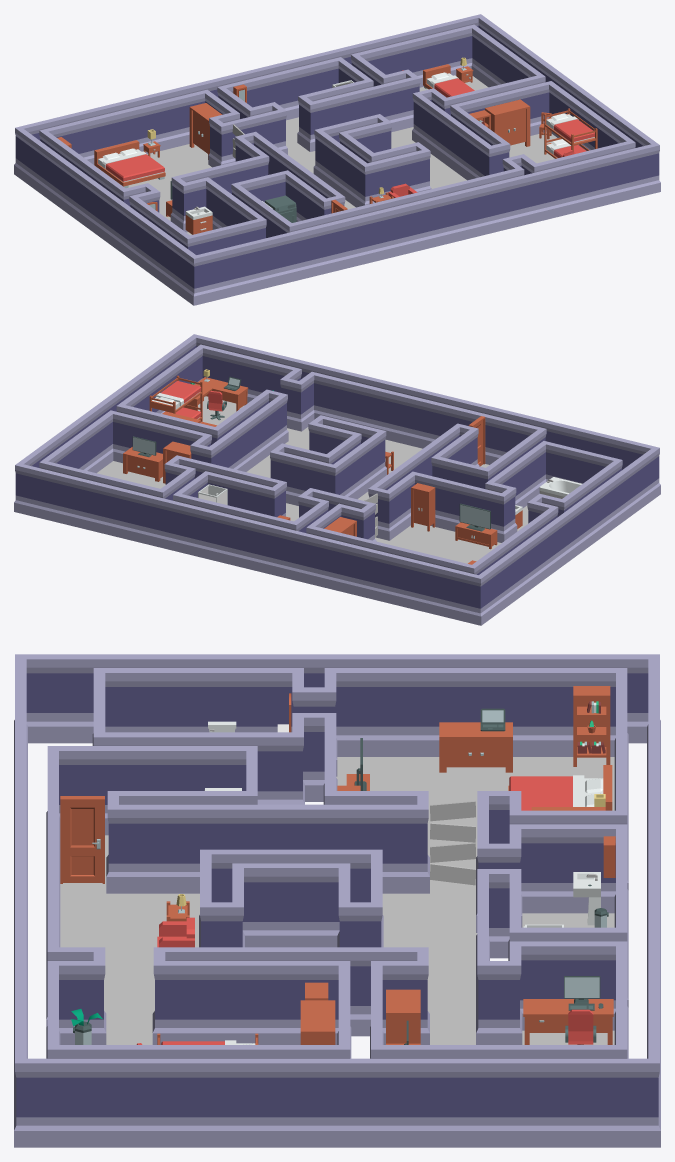
File: House1-06-F2.dae
The picture shows the model from 3 angles, top to bottom: view 1: azimuth 30°, elevation 25°; view 2: azimuth 150°, elevation 25°; view 3: azimuth 270°, elevation 25°; orthographic projection. The views are drawn at different scales.
Parts seen in each view (by area): view 1: wall (×29), wall_corner (×20), porch_floorCenter (×4), bookcaseClosedDoors (×2), bedDouble, bedBunk, bedSingle, bathroomCabinetDrawer, dryer; view 2: wall (×30), wall_corner (×16), porch_floorCenter (×5), bookcaseClosedDoors (×3), bedBunk, deskCorner, cabinetTelevisionDoors, televisionModern, bathtub, doorway, shower; view 3: wall (×29), wall_corner (×38), porch_floorCenter (×7), bookcaseClosedDoors (×3), doorway, barricade_large, bedDouble, desk, bookcaseClosed, loungeChair, chairDesk, bathroomSinkSquare (+1 smaller).
Part boxes in pixels (x1,y1,x2,y2): wall (×29): [22, 17, 651, 302]; wall_corner (×20): [14, 24, 660, 305]; porch_floorCenter (×4): [128, 130, 556, 220]; bookcaseClosedDoors (×2): [189, 99, 530, 159]; bedDouble: [94, 140, 165, 188]; bedBunk: [544, 108, 597, 158]; bedSingle: [423, 64, 474, 97]; bathroomCabinetDrawer: [185, 206, 212, 234]; dryer: [265, 195, 296, 222]; wall (×30): [23, 337, 652, 622]; wall_corner (×16): [14, 344, 660, 625]; porch_floorCenter (×5): [97, 396, 501, 563]; bookcaseClosedDoors (×3): [123, 441, 435, 531]; bedBunk: [149, 375, 202, 421]; deskCorner: [183, 377, 248, 411]; cabinetTelevisionDoors: [455, 522, 497, 549]; televisionModern: [459, 503, 490, 531]; bathtub: [539, 477, 581, 498]; doorway: [468, 416, 485, 466]; shower: [198, 484, 227, 504]; wall (×29): [14, 654, 660, 1147]; wall_corner (×38): [14, 654, 660, 1147]; porch_floorCenter (×7): [60, 757, 614, 1044]; bookcaseClosedDoors (×3): [300, 722, 512, 1044]; doorway: [60, 796, 104, 883]; barricade_large: [430, 800, 475, 885]; bedDouble: [508, 765, 612, 810]; desk: [523, 999, 613, 1044]; bookcaseClosed: [573, 686, 610, 766]; loungeChair: [157, 917, 194, 947]; chairDesk: [565, 1009, 596, 1044]; bathroomSinkSquare: [573, 872, 600, 925].
Size of the model in its own units: 21 by 3.02 by 14.
